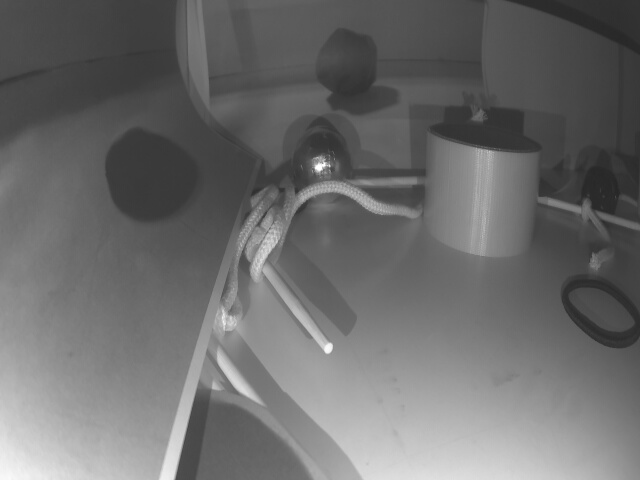Dead: (582, 166, 621, 216)
Live: (291, 129, 353, 201)
